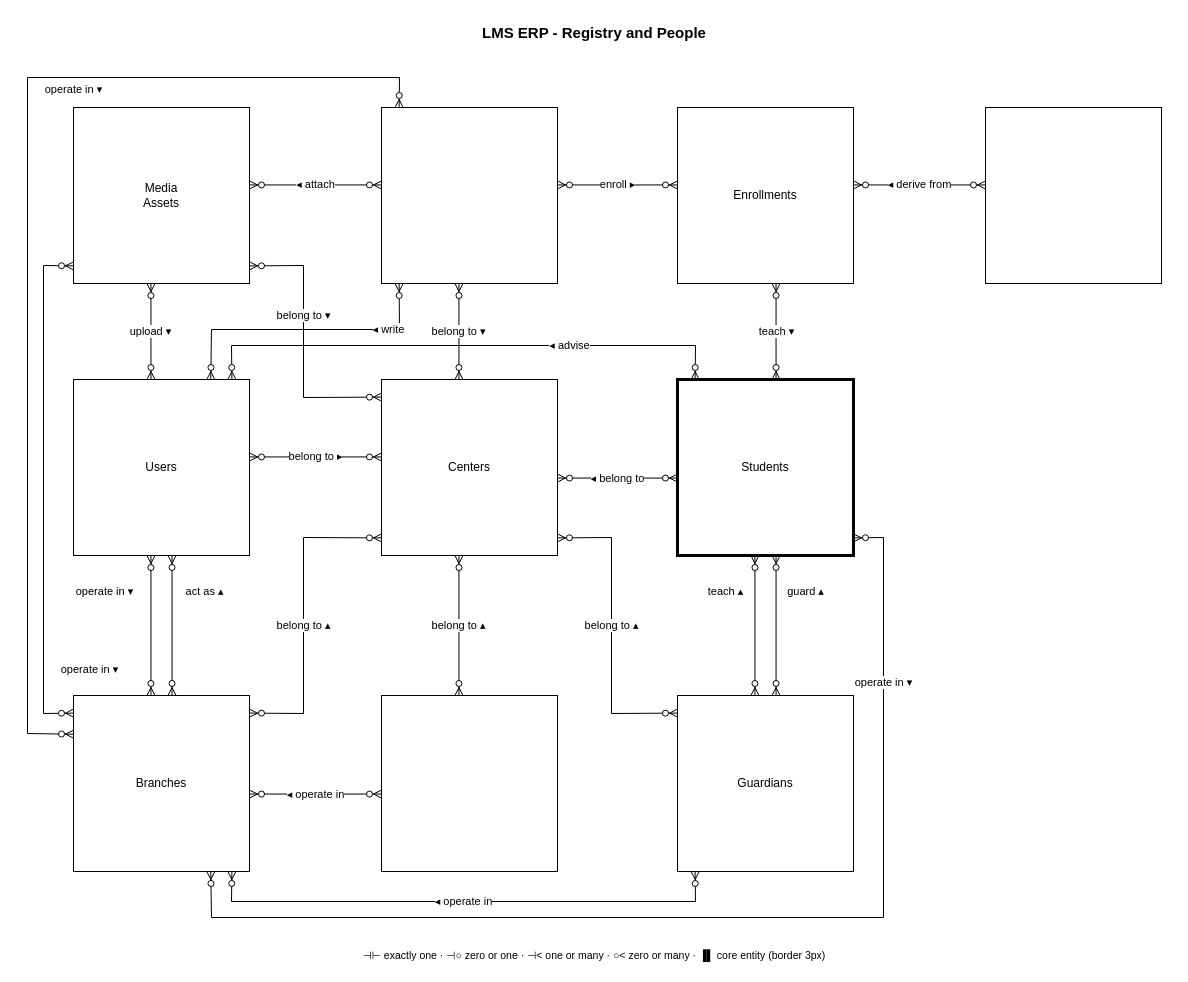
Some shapes in this 1188 by 982 pixel diagram are drawn without their labels. The shapes that lost their labels are listed below. From the top down, each one's centre as x and y in pixels, then its label:
At point (469, 195): "Student Notes".
At point (1073, 195): "Balance Transfers".
At point (469, 783): "Settings".
